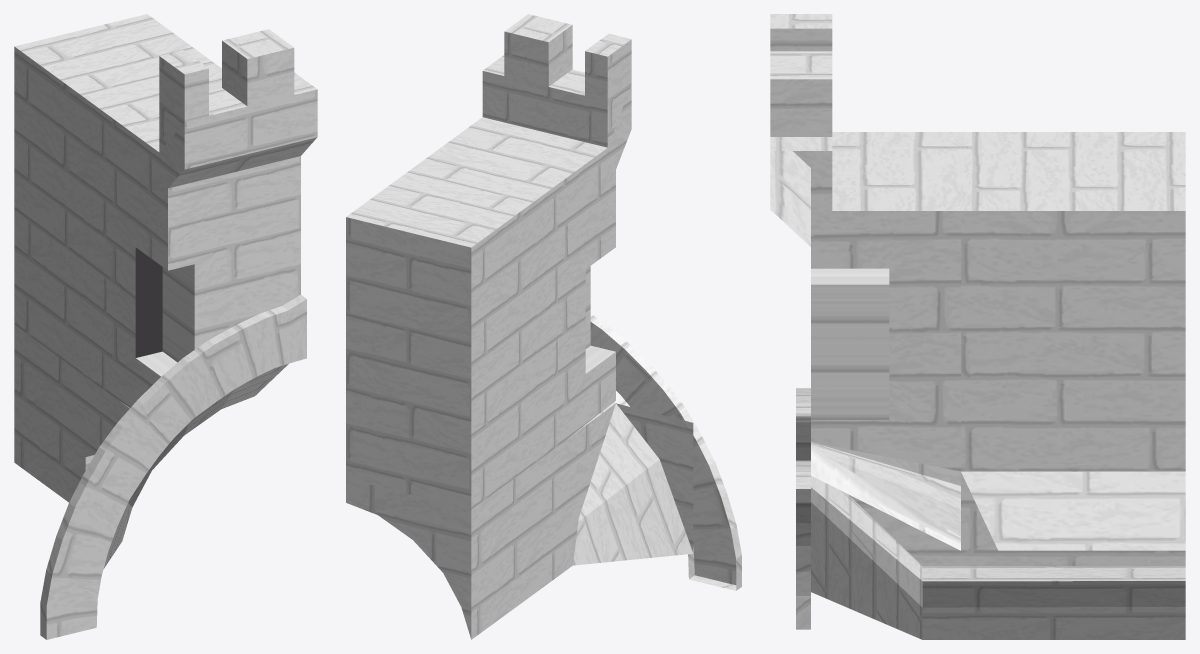
Rendered from castle_type_s.gltf.
The picture shows the model from 3 angles, left to right: view 1: azimuth 30°, elevation 25°; view 2: azimuth 150°, elevation 25°; view 3: azimuth 270°, elevation 25°; orthographic projection. The views are drawn at different scales.
Visible parts, largest first — view 1: Type_S; view 2: Type_S; view 3: Type_S.
Boxes of the visible parts, left/top/right/bottom form: Type_S: left=14, top=14, right=317, bottom=639; Type_S: left=346, top=14, right=741, bottom=639; Type_S: left=770, top=14, right=1185, bottom=639.
Size of the model in its own units: 0.9795 by 1.95 by 1.11.
Materials: 2 (1 with a texture image).
